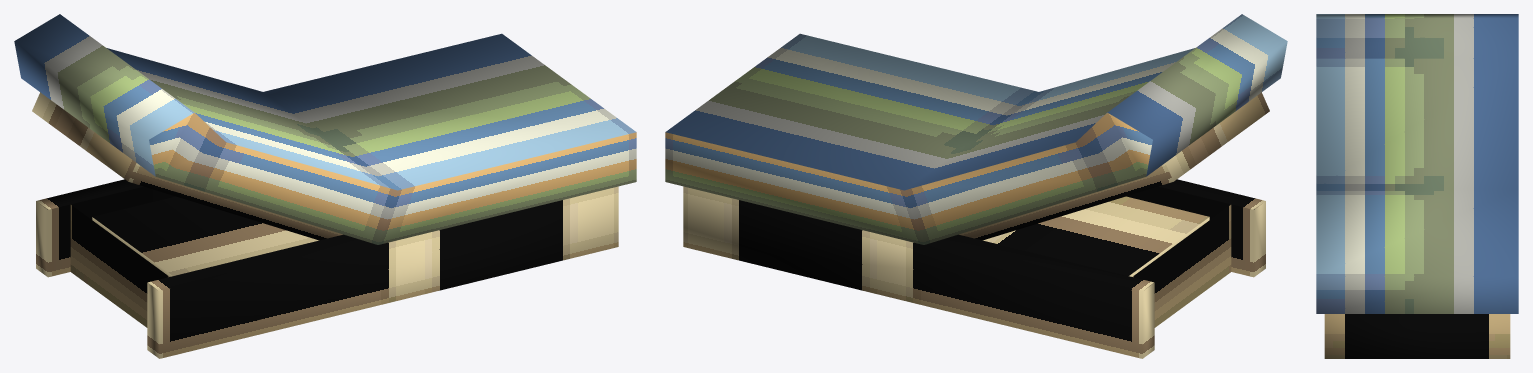
3 renders of one model, left to right at view 1: azimuth 30°, elevation 25°; view 2: azimuth 150°, elevation 25°; view 3: azimuth 270°, elevation 25°, orthographic. The views are drawn at different scales.
Visible parts, largest first — view 1: 3117IMRL09_08; view 2: 3117IMRL09_08; view 3: 3117IMRL09_08.
Boxes of the visible parts, x1,y1,x2,y2 form: 3117IMRL09_08: (14,14,636,358); 3117IMRL09_08: (665,14,1287,358); 3117IMRL09_08: (1316,14,1518,358).
Bounding box in the file's own units: 1.95 × 0.9246 × 0.9277.
Materials: 2 (2 with a texture image).
